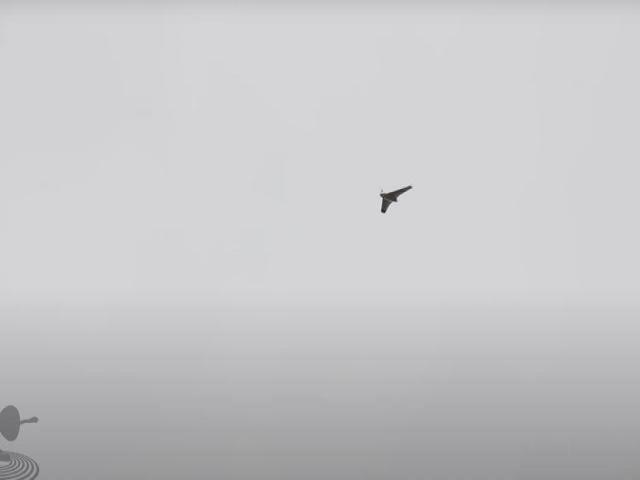iha: (376, 181, 412, 214)
